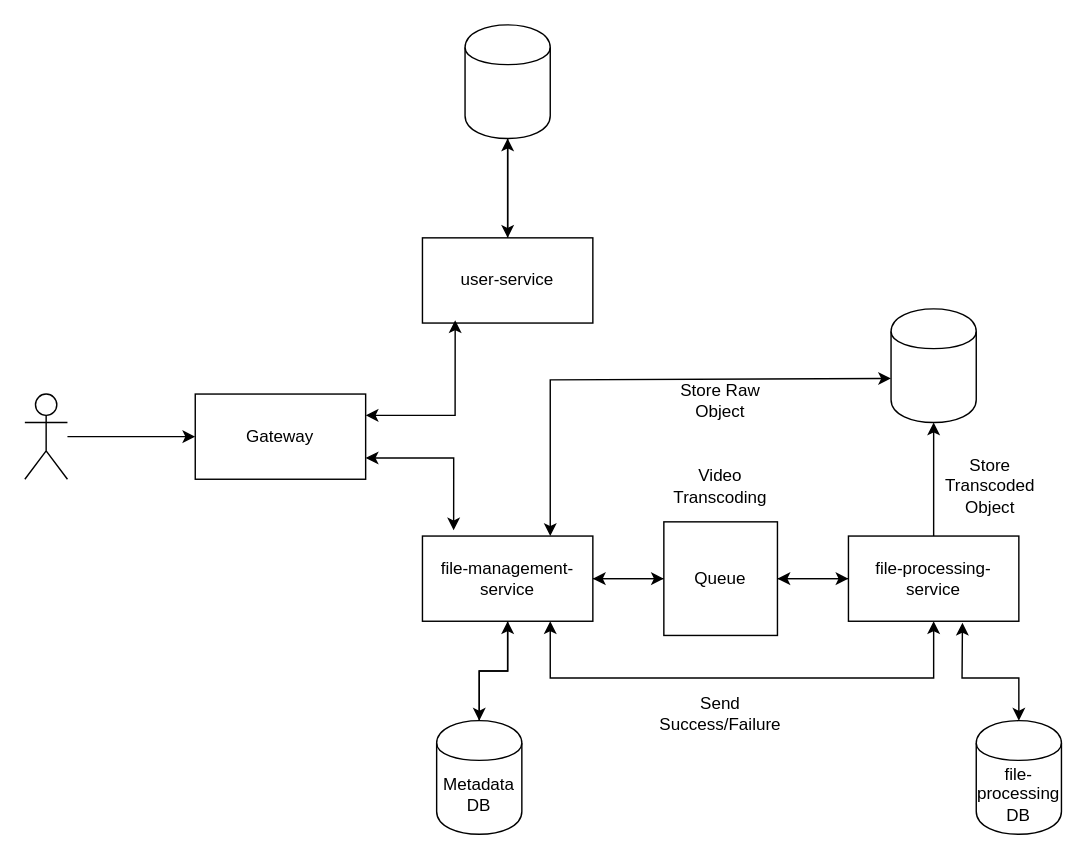
Image size: 1086x859. Some labels were removed from this diagram. Here are the shapes that lost their labels. From the top down, the centre of each, then its label:
(x=507, y=80): User DB
(x=933, y=364): S3 Store
(x=45, y=436): Actor
